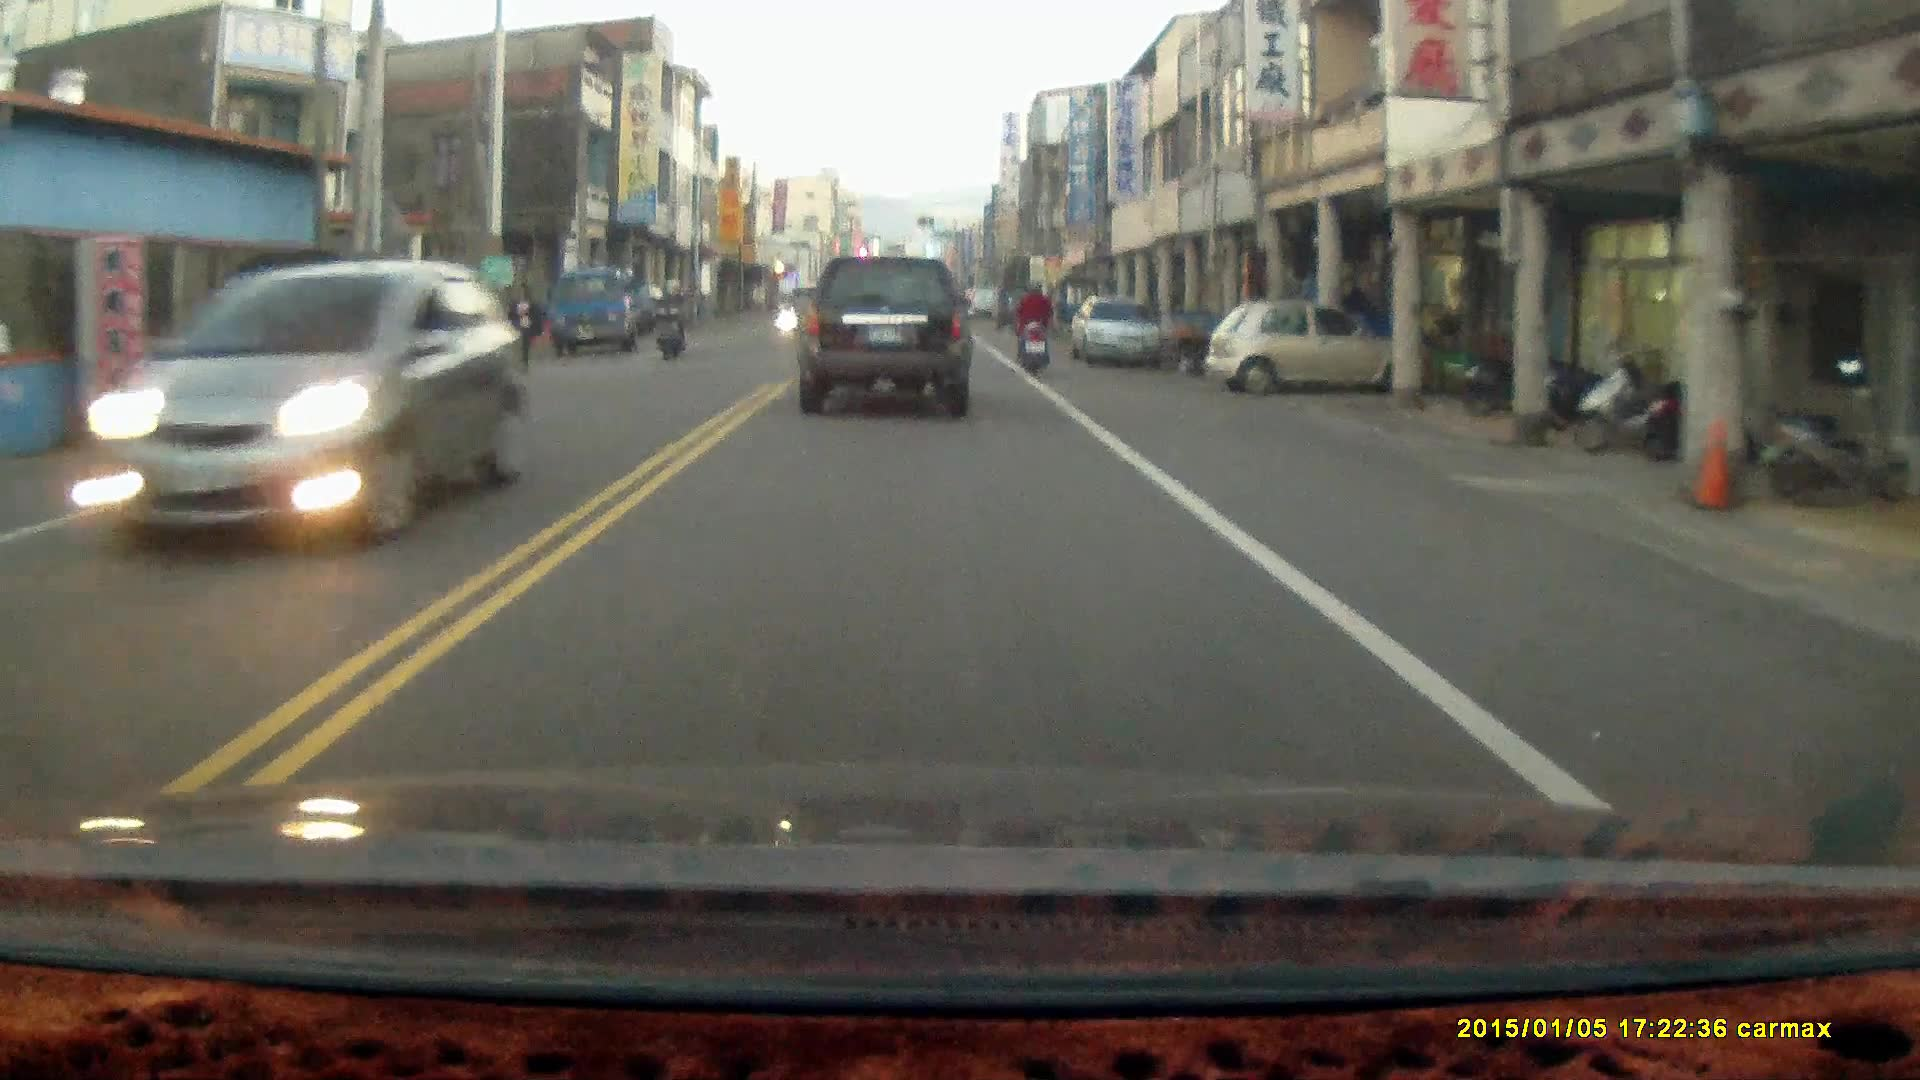pedestrian: (508, 281, 546, 371)
rider: (1013, 279, 1052, 376), (648, 277, 685, 358)
vehicle: (69, 260, 516, 559), (793, 251, 974, 421), (1210, 300, 1424, 396), (550, 265, 671, 356), (1070, 299, 1168, 370)
